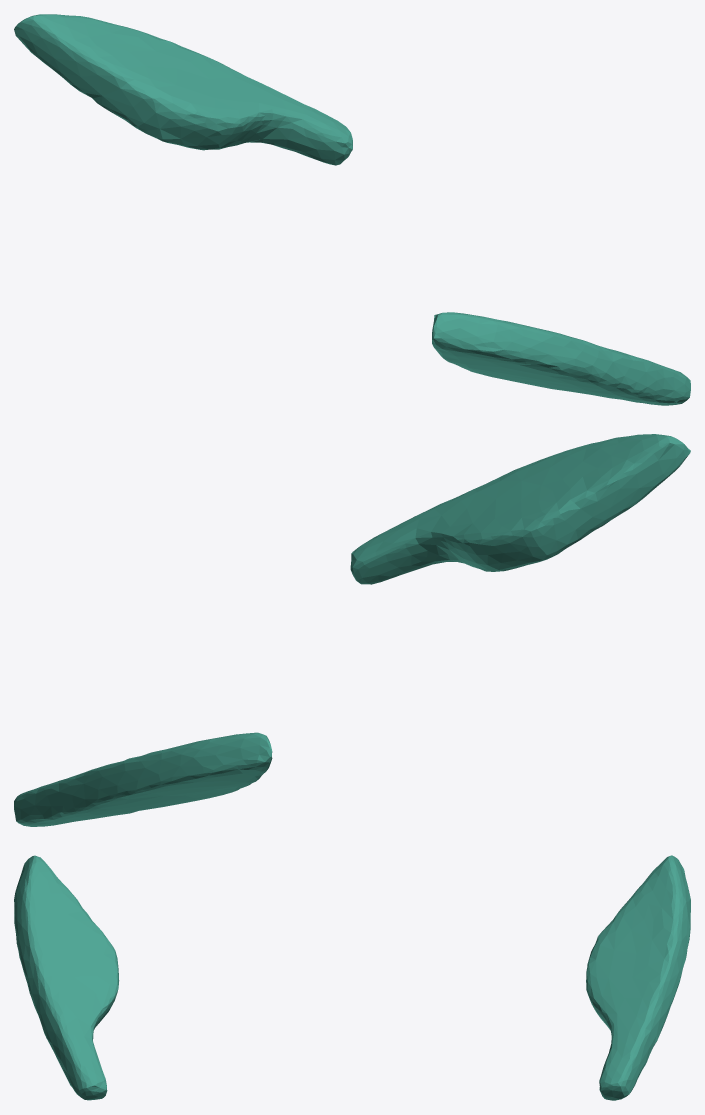
3 renders of one model, top to bottom at view 1: azimuth 30°, elevation 25°; view 2: azimuth 150°, elevation 25°; view 3: azimuth 270°, elevation 25°, orthographic. The views are drawn at different scales.
Visible parts, largest first — view 1: 625.obj; view 2: 625.obj; view 3: 625.obj.
Part boxes in pixels (bbox=[...]): 625.obj: bbox=[14, 14, 690, 405]; 625.obj: bbox=[14, 434, 690, 826]; 625.obj: bbox=[14, 855, 690, 1100].
Size of the model in its own units: 2204 by 1300 by 5580.
